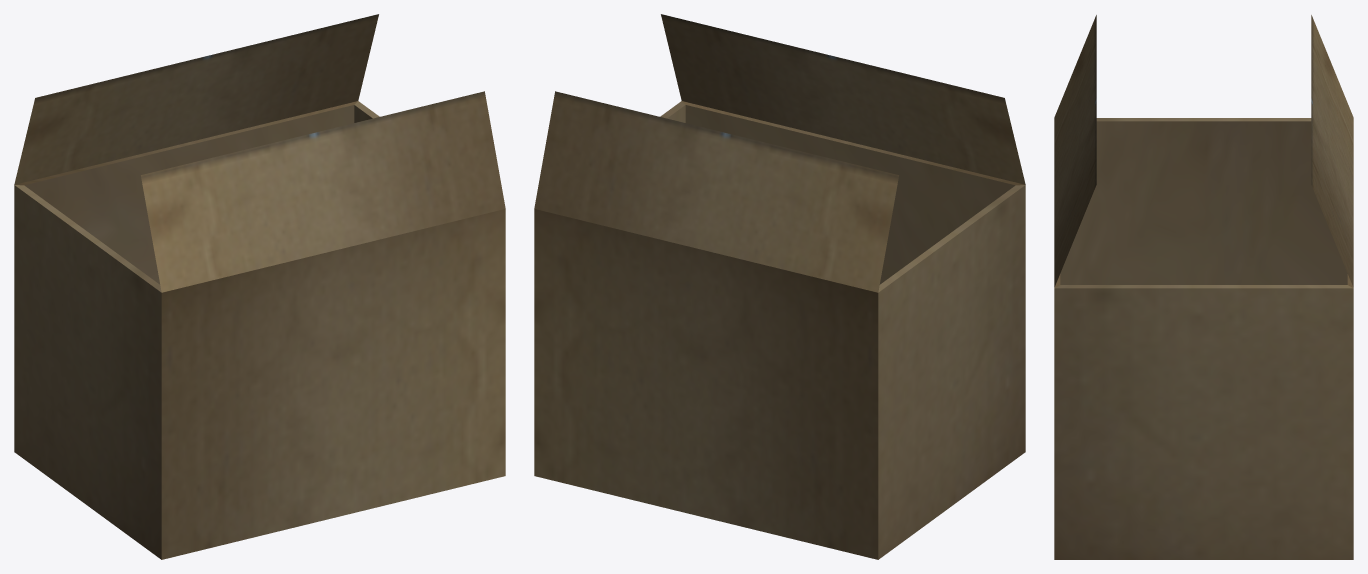
Rendered from paperbox_op.fbx.
3 renders of one model, left to right at view 1: azimuth 30°, elevation 25°; view 2: azimuth 150°, elevation 25°; view 3: azimuth 270°, elevation 25°, orthographic.
Parts seen in each view (by area): view 1: CardboardBox_2; view 2: CardboardBox_2; view 3: CardboardBox_2.
Part boxes in pixels (<box>): CardboardBox_2: <box>14,14,505,559</box>; CardboardBox_2: <box>534,14,1025,559</box>; CardboardBox_2: <box>1054,15,1353,559</box>.
Bounding box in the file's own units: 124 × 128 × 92.38.
